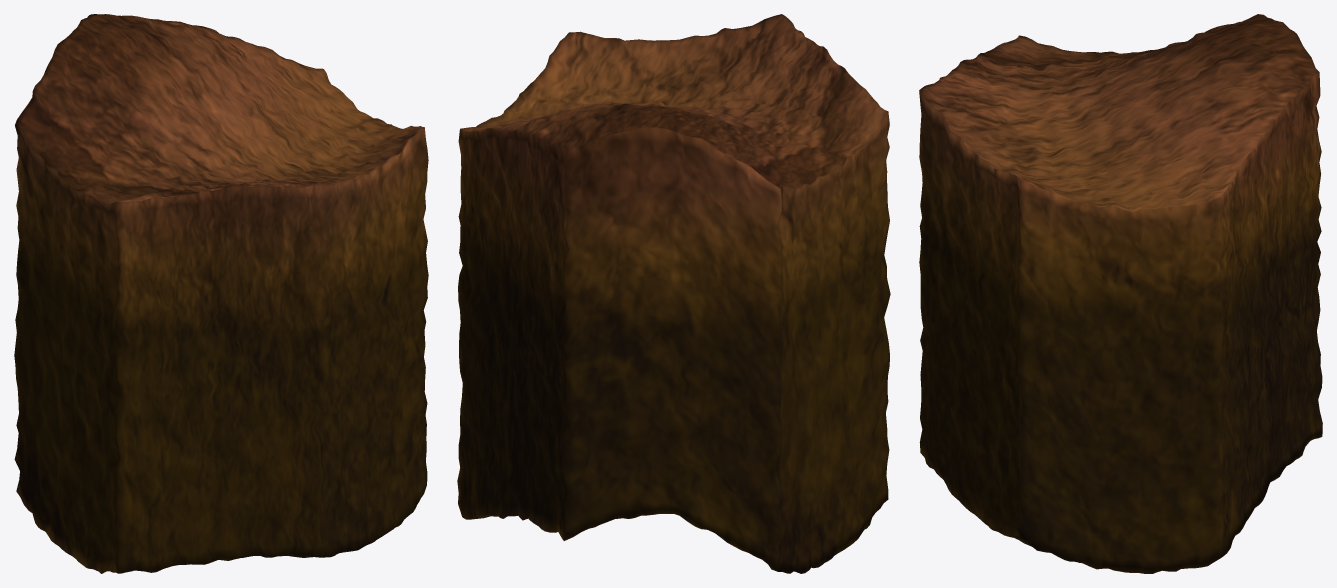
The model's file is Hills.fbx.
3 renders of one model, left to right at view 1: azimuth 30°, elevation 25°; view 2: azimuth 150°, elevation 25°; view 3: azimuth 270°, elevation 25°, orthographic. The views are drawn at different scales.
Visible parts, largest first — view 1: Mine; view 2: Mine; view 3: Mine.
Part boxes in pixels (bbox=[...]): Mine: bbox=[14, 14, 428, 573]; Mine: bbox=[457, 14, 890, 573]; Mine: bbox=[919, 14, 1322, 573].
Size of the model in its own units: 177 by 249 by 202.
